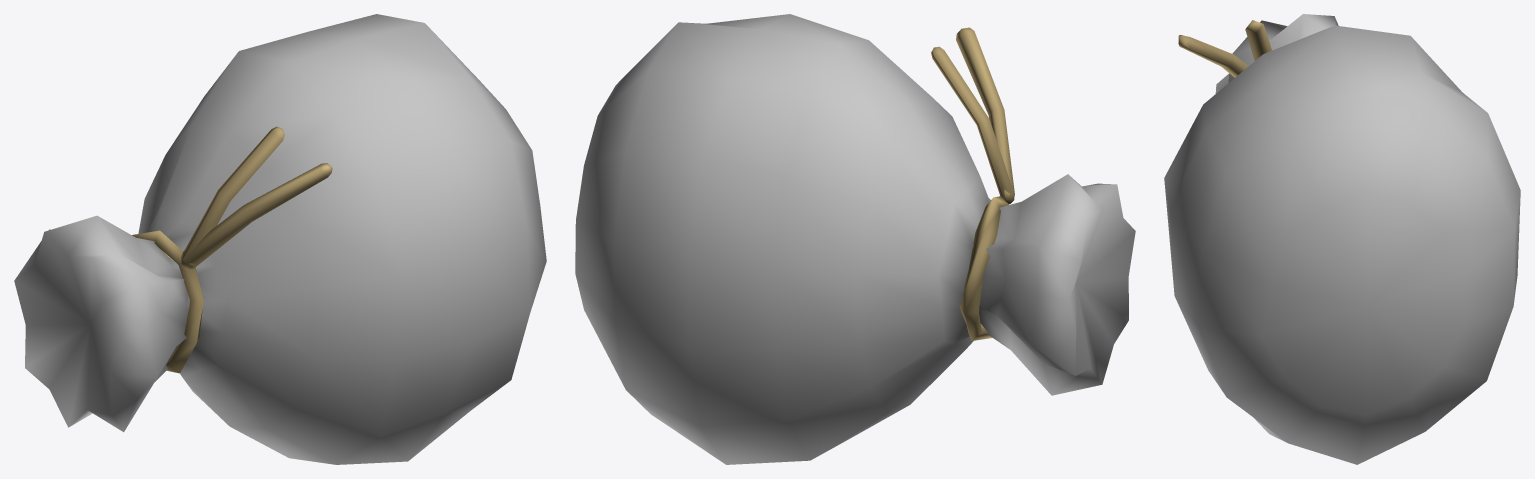
Rendered from satchel.glb.
The picture shows the model from 3 angles, left to right: view 1: azimuth 30°, elevation 25°; view 2: azimuth 150°, elevation 25°; view 3: azimuth 270°, elevation 25°; orthographic projection. The views are drawn at different scales.
Parts seen in each view (by area): view 1: satchel; view 2: satchel; view 3: satchel.
Boxes of the visible parts, bbox=[...] form: satchel: bbox=[14, 14, 546, 464]; satchel: bbox=[575, 14, 1135, 464]; satchel: bbox=[1164, 14, 1520, 464].
Size of the model in its own units: 0.2516 by 0.2032 by 0.1761.
